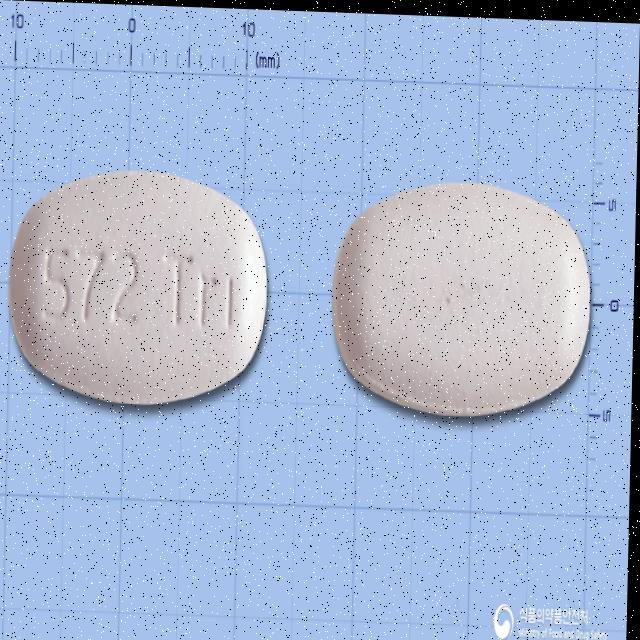Clarimicin: (10, 164, 272, 408), (333, 176, 596, 416)
